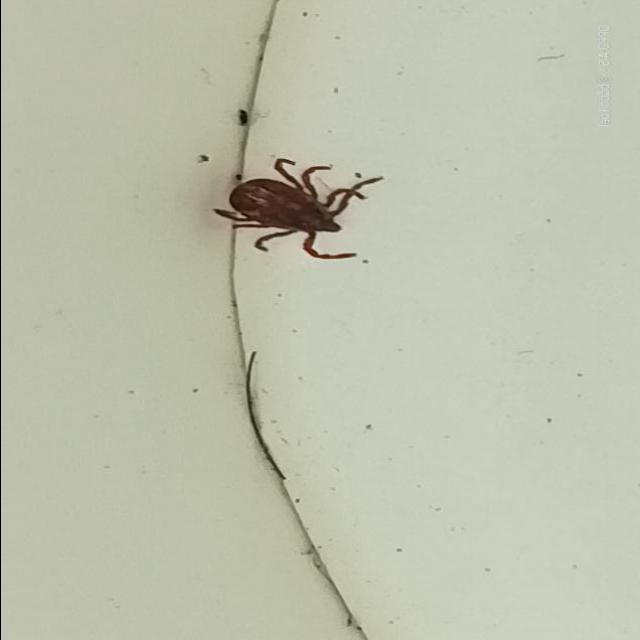Rhipicephalus Sanguineus-M: (216, 158, 385, 264)
